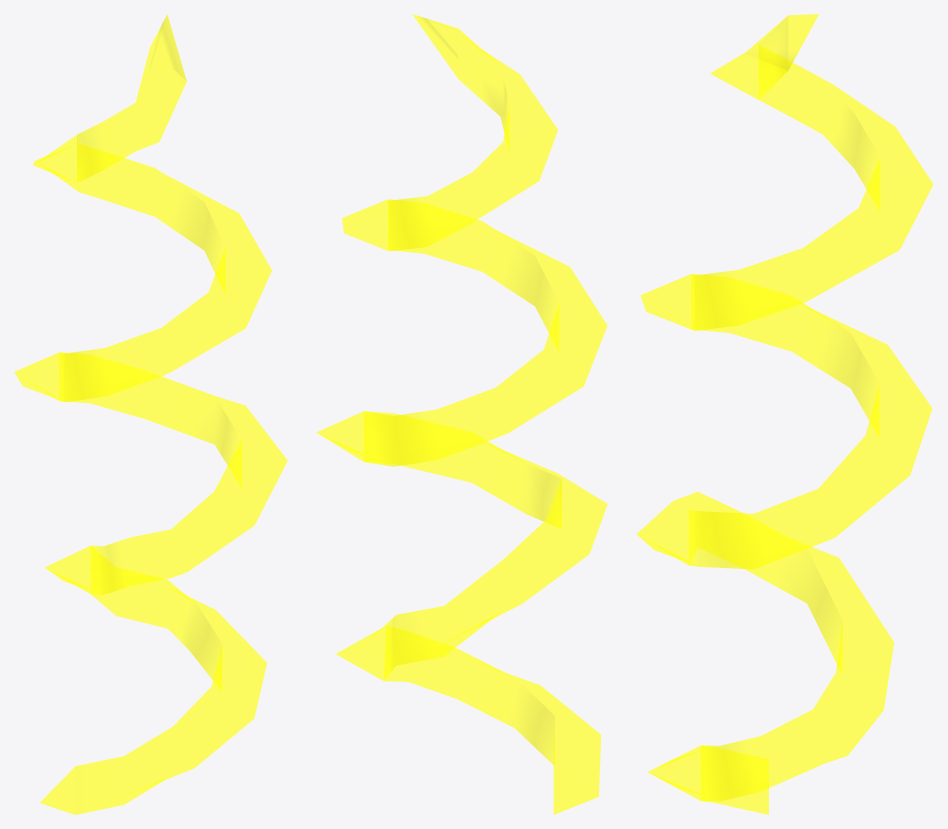
File: ThunderProjectile.fbx
3 renders of one model, left to right at view 1: azimuth 30°, elevation 25°; view 2: azimuth 150°, elevation 25°; view 3: azimuth 270°, elevation 25°, orthographic. The views are drawn at different scales.
Parts seen in each view (by area): view 1: pHelix1; view 2: pHelix1; view 3: pHelix1.
Part boxes in pixels (<box>): pHelix1: <box>14,14,287,814</box>; pHelix1: <box>316,14,607,814</box>; pHelix1: <box>636,14,933,814</box>.
Size of the model in its own units: 2.11 by 6.38 by 1.99.
